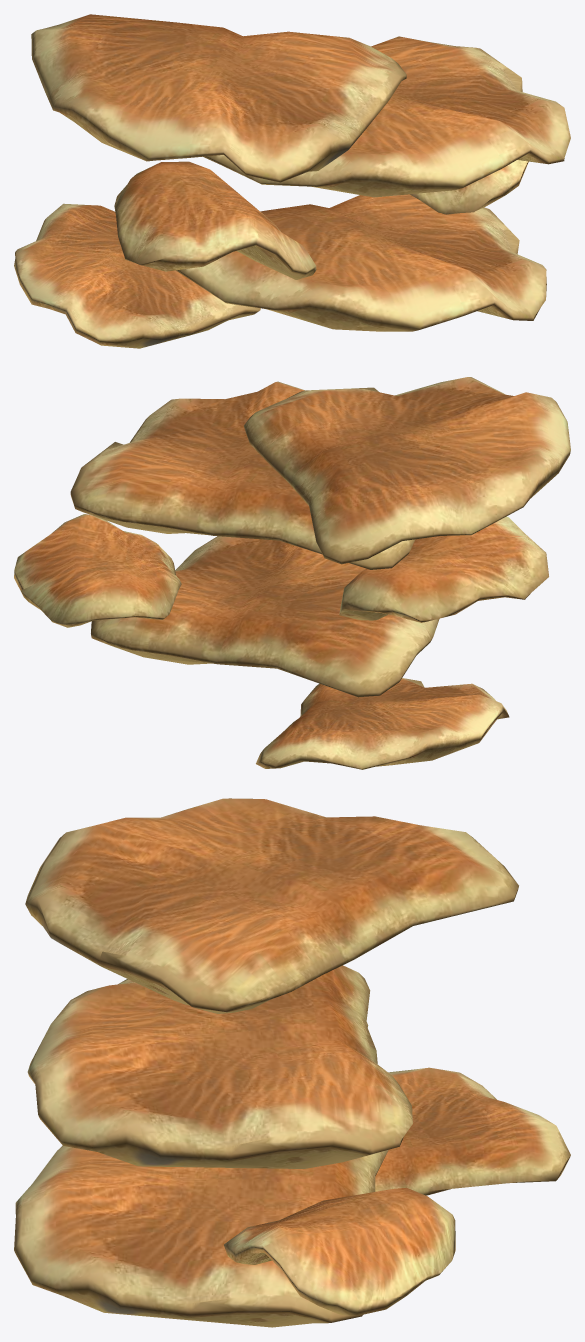
The model's file is Mushroom_Laetiporus.glb.
3 views of the same model, one above another, from view 1: azimuth 30°, elevation 25°; view 2: azimuth 150°, elevation 25°; view 3: azimuth 270°, elevation 25° (orthographic). The views are drawn at different scales.
Size of the model in its own units: 1.36 by 0.7669 by 1.1.
1 material, 1 textured.
